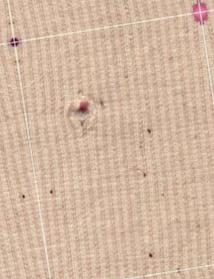hole: (68, 93, 106, 124)
stain: (188, 1, 212, 30), (137, 120, 164, 142), (42, 184, 63, 204), (136, 165, 153, 188), (139, 249, 163, 265), (7, 35, 25, 54), (14, 189, 31, 206)
